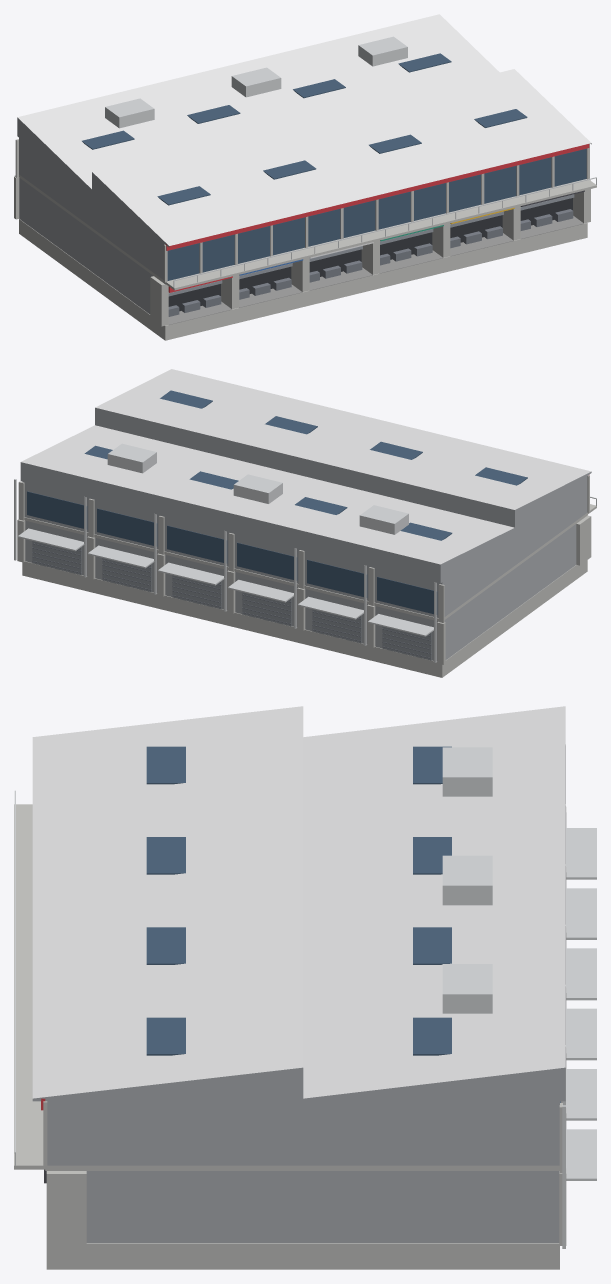
The model's file is boxes.glb.
3 views of the same model, one above another, from view 1: azimuth 30°, elevation 25°; view 2: azimuth 150°, elevation 25°; view 3: azimuth 270°, elevation 25° (orthographic). The views are drawn at different scales.
Visible parts, largest first — view 1: teto, concreto, vidro, parede, metal, escuro, piso, chapa, eq0, portao; view 2: teto, parede, concreto, vidro, metal, portao, chapa; view 3: teto, parede, concreto, metal, vidro.
Boxes of the visible parts, left/top/right/bottom form: teto: left=17, top=14, right=591, bottom=245; concreto: left=14, top=139, right=596, bottom=340; vidro: left=82, top=53, right=586, bottom=280; parede: left=17, top=117, right=591, bottom=314; metal: left=14, top=36, right=596, bottom=287; escuro: left=168, top=198, right=572, bottom=311; piso: left=168, top=216, right=583, bottom=324; chapa: left=168, top=209, right=573, bottom=316; eq0: left=165, top=144, right=589, bottom=292; portao: left=168, top=194, right=574, bottom=296; teto: left=21, top=369, right=591, bottom=564; parede: left=20, top=407, right=591, bottom=661; concreto: left=17, top=475, right=596, bottom=677; vidro: left=27, top=390, right=527, bottom=614; metal: left=14, top=443, right=596, bottom=662; portao: left=32, top=541, right=431, bottom=660; chapa: left=32, top=543, right=431, bottom=658; teto: left=32, top=706, right=565, bottom=1098; parede: left=32, top=1067, right=565, bottom=1243; concreto: left=14, top=804, right=566, bottom=1269; metal: left=14, top=744, right=596, bottom=1248; vidro: left=146, top=746, right=560, bottom=1102.
Size of the model in its own units: 61.42 by 16.9 by 40.9.
